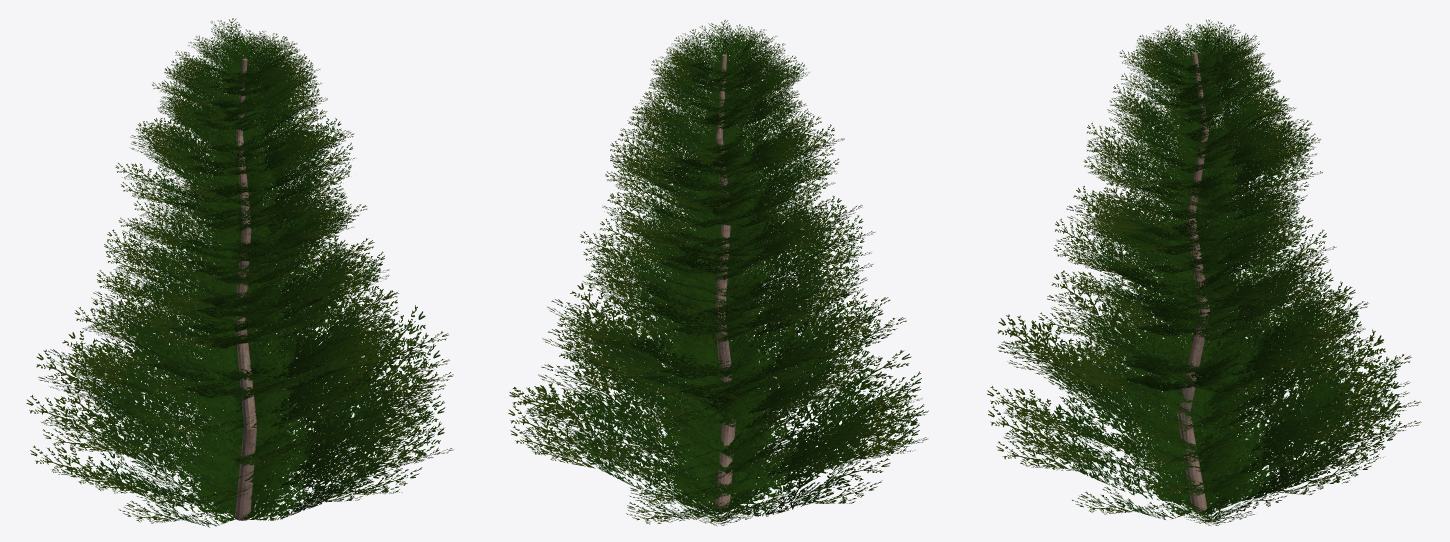
File: SM_bush_01.glb
3 renders of one model, left to right at view 1: azimuth 30°, elevation 25°; view 2: azimuth 150°, elevation 25°; view 3: azimuth 270°, elevation 25°, orthographic.
Visible parts, largest first — view 1: SM_bush_01; view 2: SM_bush_01; view 3: SM_bush_01.
Boxes of the visible parts, x1,y1,x2,y2 form: SM_bush_01: (26,18,453,527); SM_bush_01: (508,20,928,526); SM_bush_01: (987,19,1421,525).
Size of the model in its own units: 2.91 by 3.4 by 2.96.
Materials: 2 (2 with a texture image).
